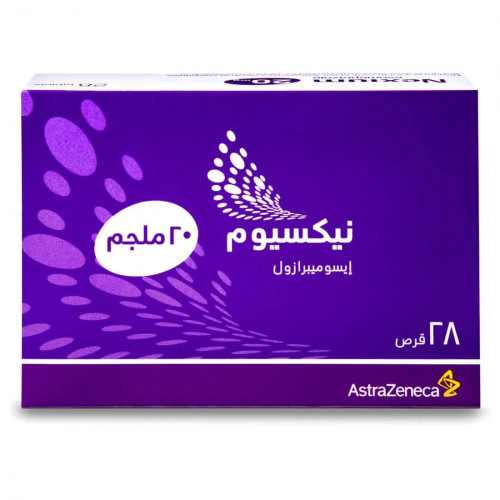Medicine: (14, 61, 489, 426)
